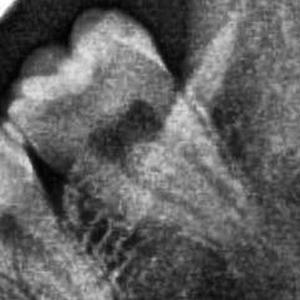tooth: (11, 6, 259, 248)
